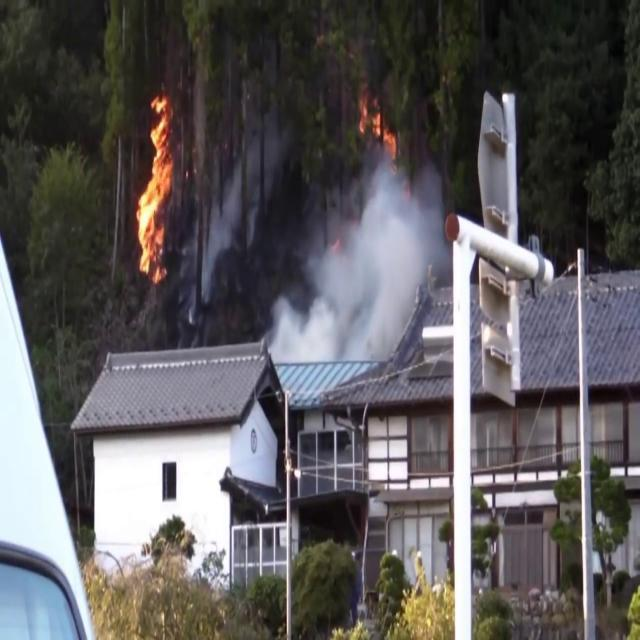Fire: (130, 87, 180, 285), (355, 103, 401, 166)
Smoke: (266, 139, 449, 371), (178, 154, 248, 310)
